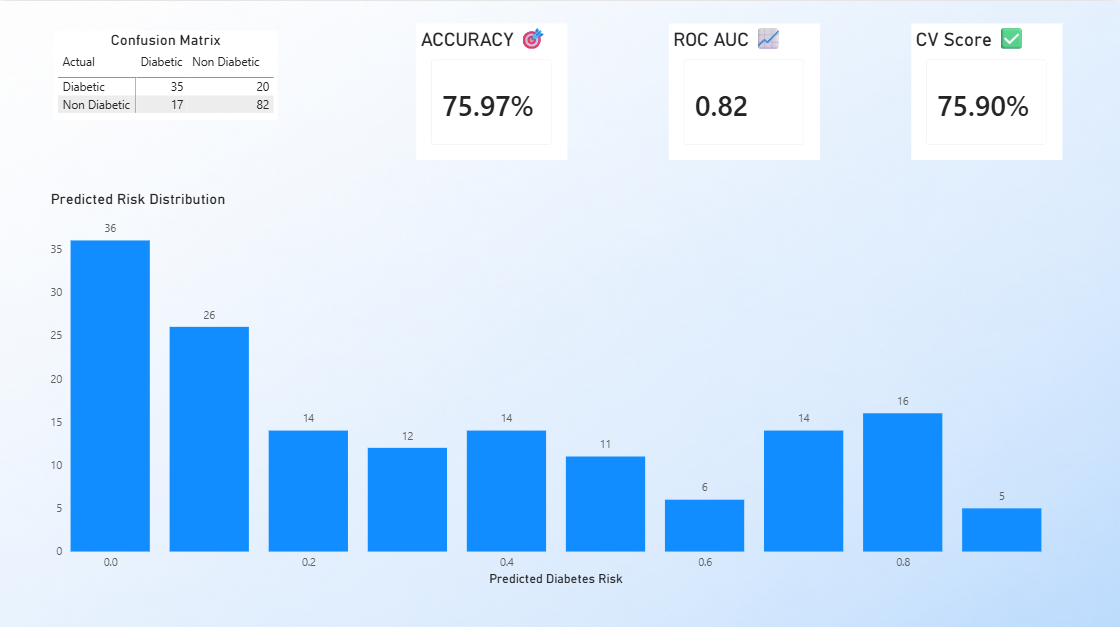

The dashboard page shown, as its layout file describes it:
{"tool":"powerbi","page":{"name":"Model Performance","canvas":[1280,720],"ordinal":2},"visuals":[{"type":"cardVisual","title":"ACCURACY 🎯","fields":{"Data":["Model_Metrics.Accuracy_Display"]},"box":[476.2,25,172.5,156.2],"z":0},{"type":"cardVisual","title":"ROC AUC  📈","fields":{"Data":["Sum(Model_Metrics.Value)"]},"box":[763.8,25,172.5,156.2],"z":1000},{"type":"cardVisual","title":"CV Score  ✅","fields":{"Data":["Model_Metrics.CV_Display"]},"box":[1041.2,25,172.5,156.2],"z":2000},{"type":"pivotTable","title":"Confusion Matrix","fields":{"Rows":["confusion_matrix.Actual"],"Columns":["confusion_matrix.Predicted"],"Values":["Sum(confusion_matrix.Count)"]},"box":[61.2,33.8,256.2,101.2],"z":2001},{"type":"clusteredColumnChart","title":"Predicted Risk Distribution","fields":{"Category":["diabetes_predictions.Diabetes_Probability (bins)"],"Y":["CountNonNull(diabetes_predictions.Diabetes_Probability)"]},"box":[52.5,216.2,1142.5,457.5],"z":2002}]}

Visuals, with their boxes in screenshot pixels (x1, y1, x2, y2), scaled from the page's 1280x720 canvas onto the 1120x627 screenshot:
"ACCURACY 🎯" cardVisual: box=[417, 22, 568, 158]
"ROC AUC  📈" cardVisual: box=[668, 22, 819, 158]
"CV Score  ✅" cardVisual: box=[911, 22, 1062, 158]
"Confusion Matrix" pivotTable: box=[54, 29, 278, 118]
"Predicted Risk Distribution" clusteredColumnChart: box=[46, 188, 1046, 587]
